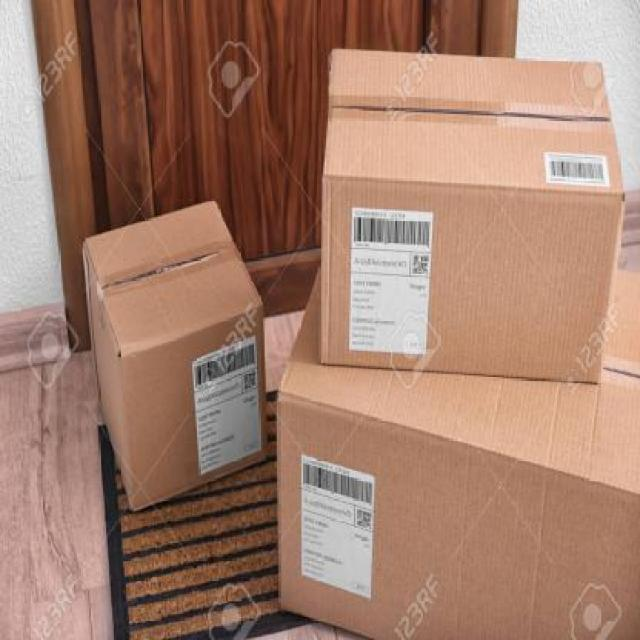box: (277, 270, 640, 640), (314, 44, 606, 392), (77, 196, 269, 521)
